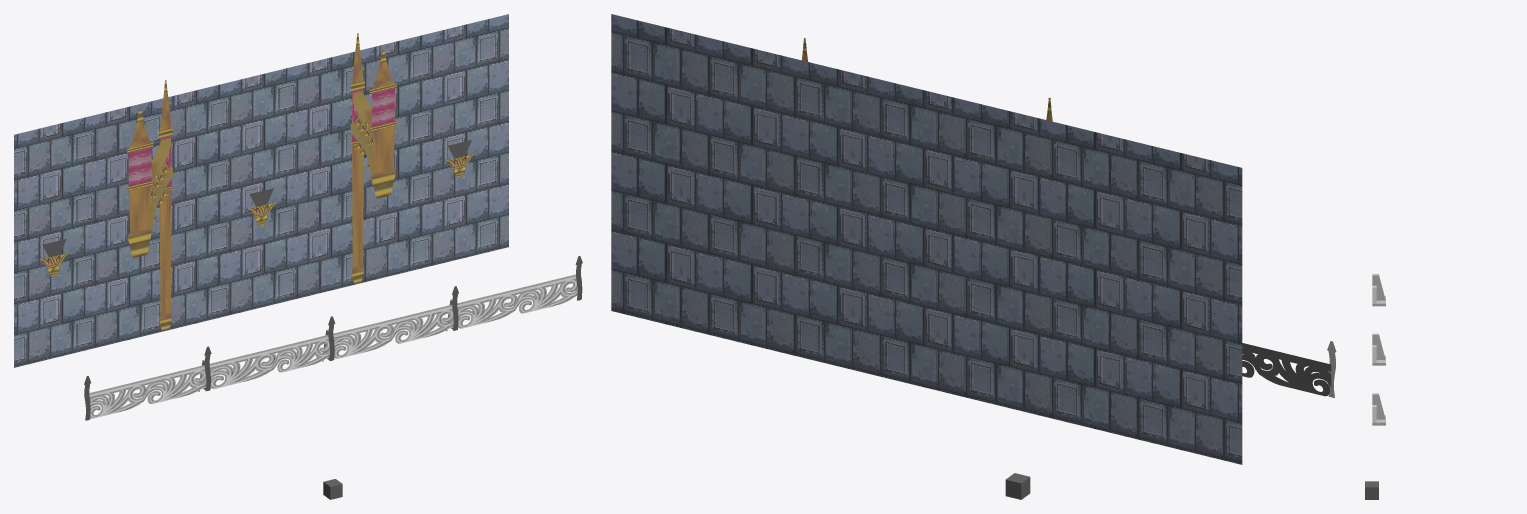
File: stg_08_1_bake.dae
3 renders of one model, left to right at view 1: azimuth 30°, elevation 25°; view 2: azimuth 150°, elevation 25°; view 3: azimuth 270°, elevation 25°, orthographic. The views are drawn at different scales.
Visible parts, largest first — view 1: polySurface255_q00026, pCylinder7_q00011, polySurface1366_q00022, polySurface1352_q00031_part0, polySurface1352_q00027_part0, polySurface1352_q00027_part1, polySurface1352_q00031_part1, polySurface1352_q00027_part2, polySurface1352_q00031_part2; view 2: polySurface255_q00026, polySurface1365_q00012; view 3: pCube25_q00000, pCube24_q00021, pCube24_q00015, pCube24_q00018.
Boxes of the visible parts, x1,y1,x2,y2 form: polySurface255_q00026: [14, 14, 508, 367]; pCylinder7_q00011: [89, 276, 577, 418]; polySurface1366_q00022: [89, 274, 577, 418]; polySurface1352_q00031_part0: [350, 44, 395, 272]; polySurface1352_q00027_part0: [128, 91, 172, 319]; polySurface1352_q00027_part1: [126, 80, 172, 330]; polySurface1352_q00031_part1: [351, 33, 396, 283]; polySurface1352_q00027_part2: [128, 136, 171, 187]; polySurface1352_q00031_part2: [352, 87, 394, 142]; polySurface255_q00026: [611, 14, 1242, 464]; polySurface1365_q00012: [1242, 343, 1331, 396]; pCube25_q00000: [1365, 481, 1378, 499]; pCube24_q00021: [1372, 274, 1385, 300]; pCube24_q00015: [1372, 333, 1385, 359]; pCube24_q00018: [1372, 393, 1385, 419].
Size of the model in its own units: 40.31 by 29.88 by 10.5.
